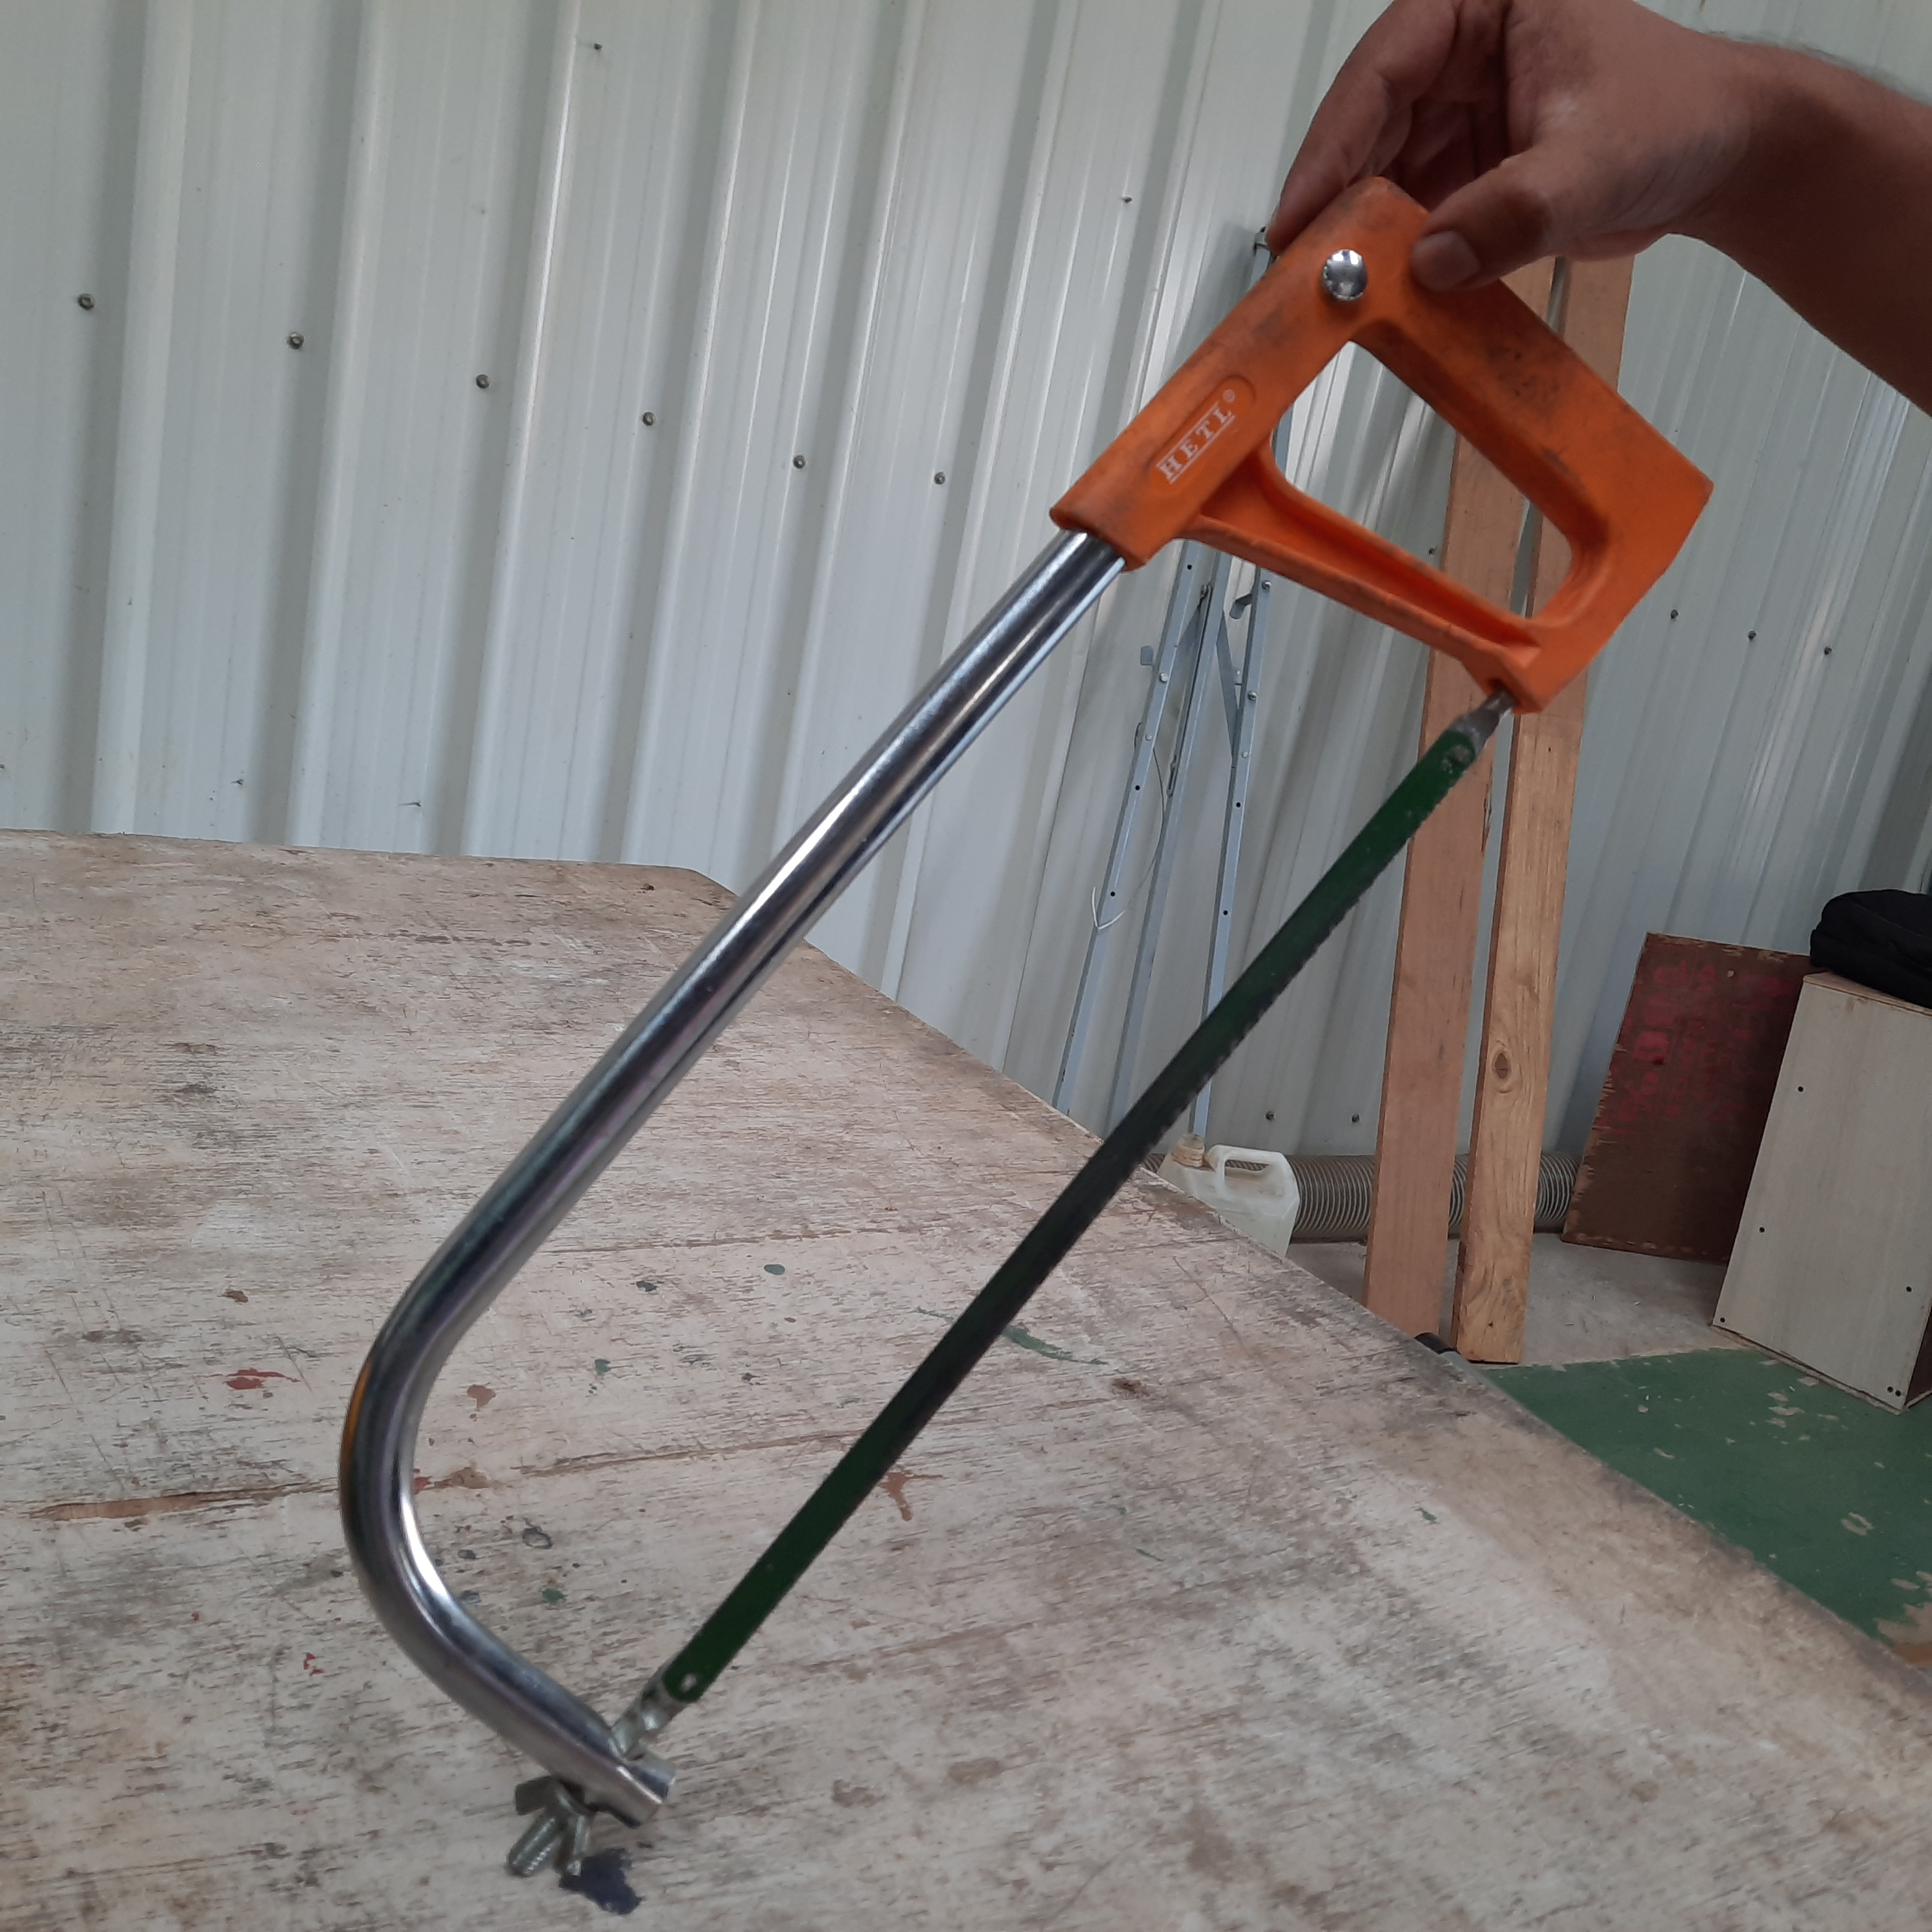Hexaframe: (308, 157, 1757, 1874)
